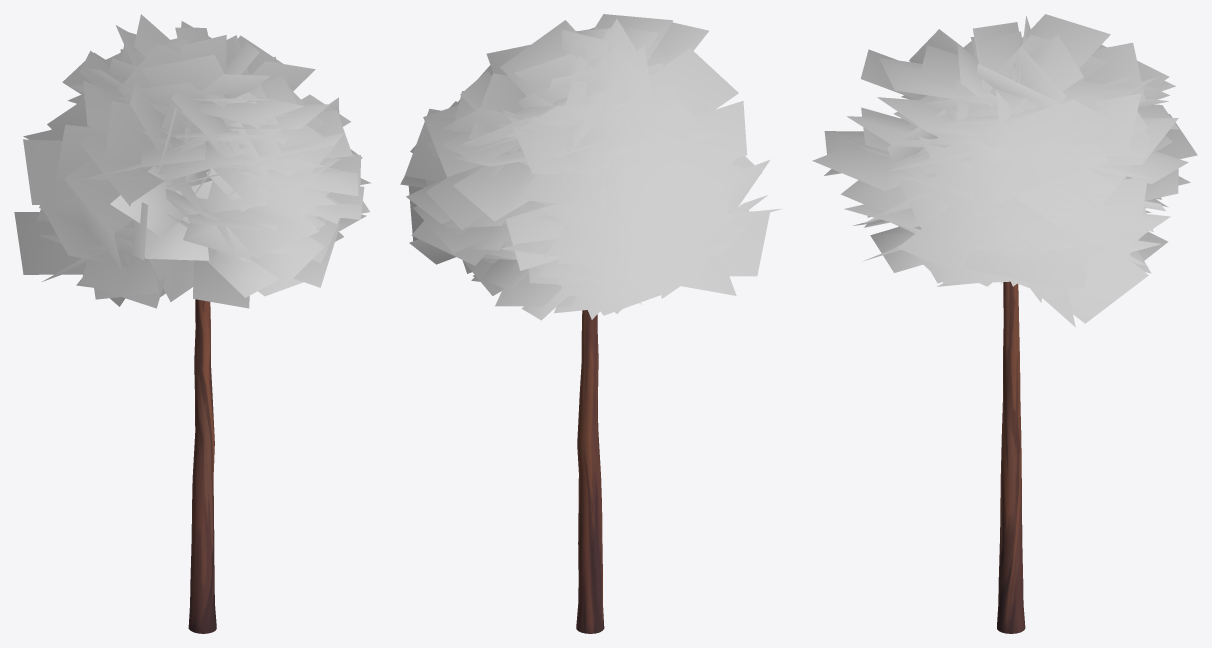
File: Tree_03.fbx
The picture shows the model from 3 angles, left to right: view 1: azimuth 30°, elevation 25°; view 2: azimuth 150°, elevation 25°; view 3: azimuth 270°, elevation 25°; orthographic projection.
Visible parts, largest first — view 1: Leaf_002, Object002; view 2: Leaf_002, Object002; view 3: Leaf_002, Object002.
Boxes of the visible parts, x1,y1,x2,y2 form: Leaf_002: (14,14,371,308); Object002: (188,299,216,633); Leaf_002: (400,14,782,320); Object002: (576,310,604,633); Leaf_002: (812,14,1197,327); Object002: (997,281,1025,633).
Size of the model in its own units: 418 by 714 by 419.
